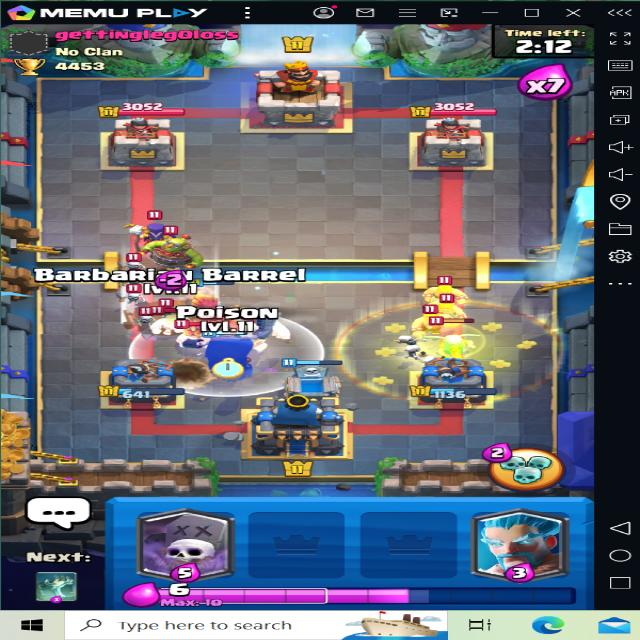barbarian: (152, 310, 210, 335), (416, 275, 466, 303), (409, 306, 455, 336), (420, 298, 472, 322)
battle-healer: (419, 312, 488, 360)
goblin-demolisher: (139, 228, 204, 272)
skeleton: (122, 285, 149, 304), (126, 254, 149, 272), (134, 305, 157, 323)
witch: (128, 213, 184, 253)
